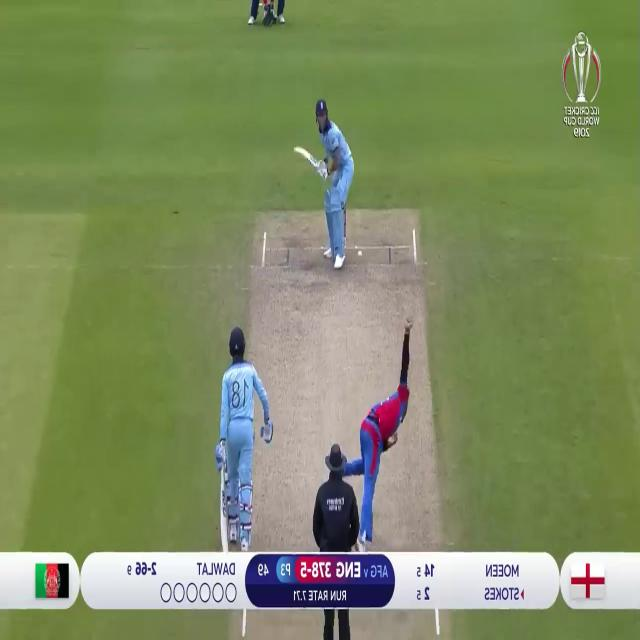ball: (356, 242, 364, 264)
